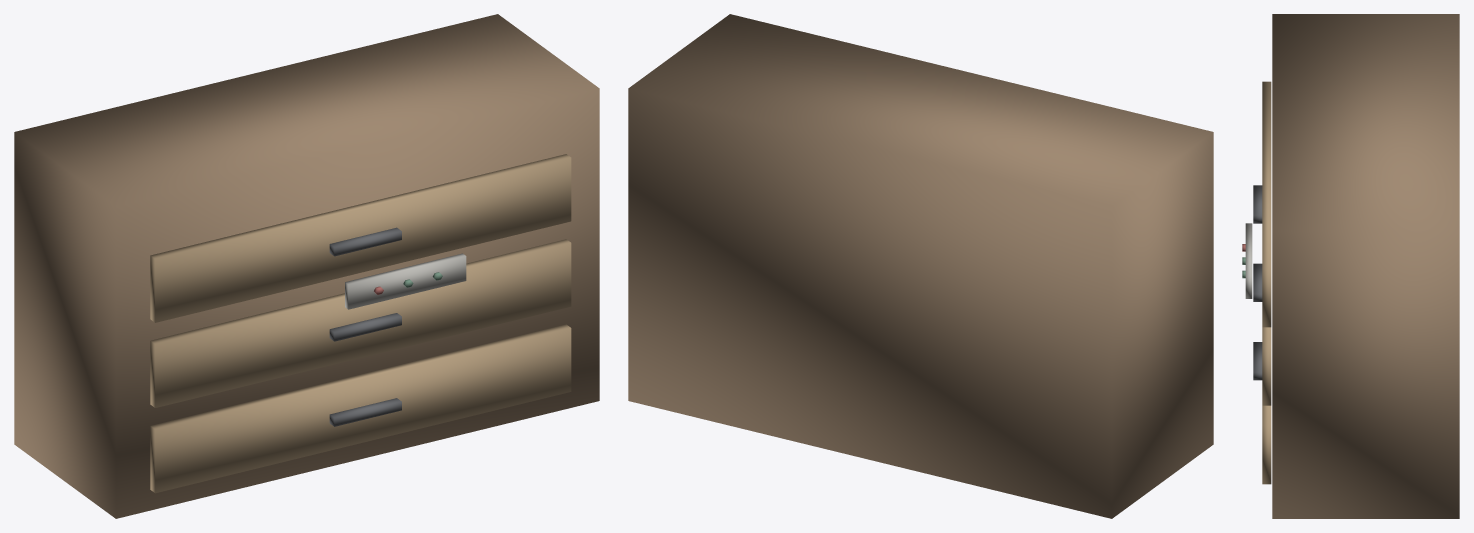
Rendered from residential_dresser__wide.glb.
3 renders of one model, left to right at view 1: azimuth 30°, elevation 25°; view 2: azimuth 150°, elevation 25°; view 3: azimuth 270°, elevation 25°, orthographic. The views are drawn at different scales.
Visible parts, largest first — view 1: world; view 2: world; view 3: world.
Part boxes in pixels (x1=…): world: x1=14, y1=14, x2=599, y2=518; world: x1=628, y1=14, x2=1213, y2=518; world: x1=1242, y1=14, x2=1459, y2=518.
Size of the model in its own units: 1.43 by 0.88 by 0.6035.
